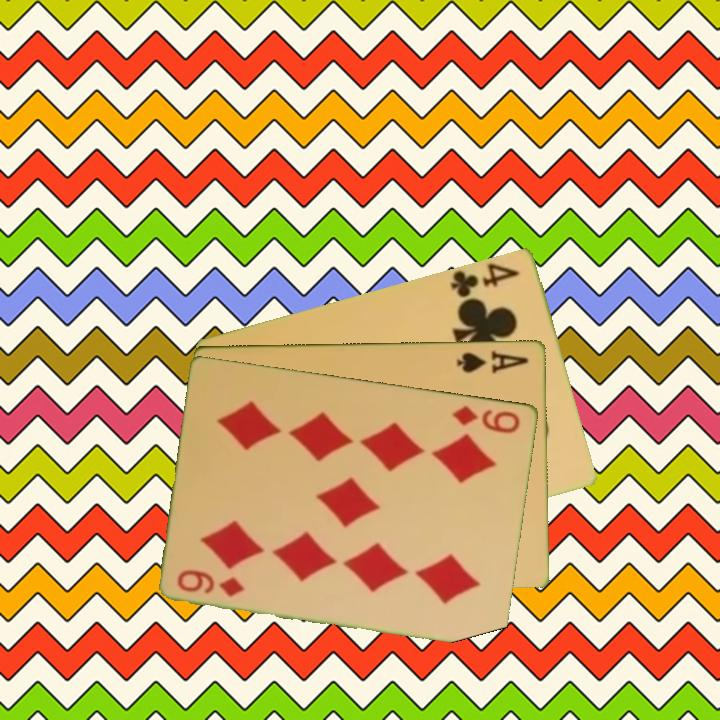4c: (447, 259, 523, 300)
9d: (449, 401, 523, 436), (174, 565, 247, 600)
As: (453, 346, 531, 375)
